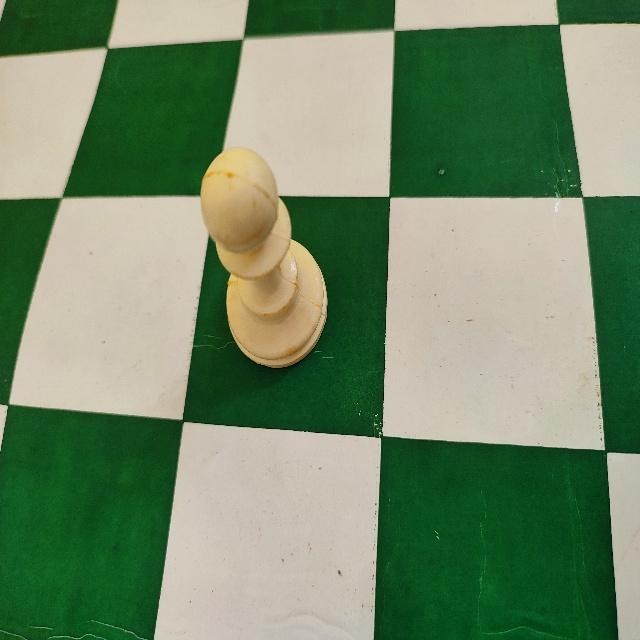Pawn: (197, 144, 331, 372)
